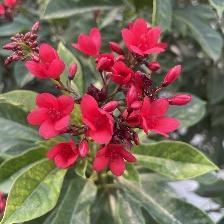jatropha: (28, 91, 82, 142), (122, 16, 166, 60), (26, 43, 68, 84), (138, 97, 181, 137), (93, 141, 138, 179), (89, 94, 117, 144), (72, 28, 104, 60), (48, 139, 81, 170)
